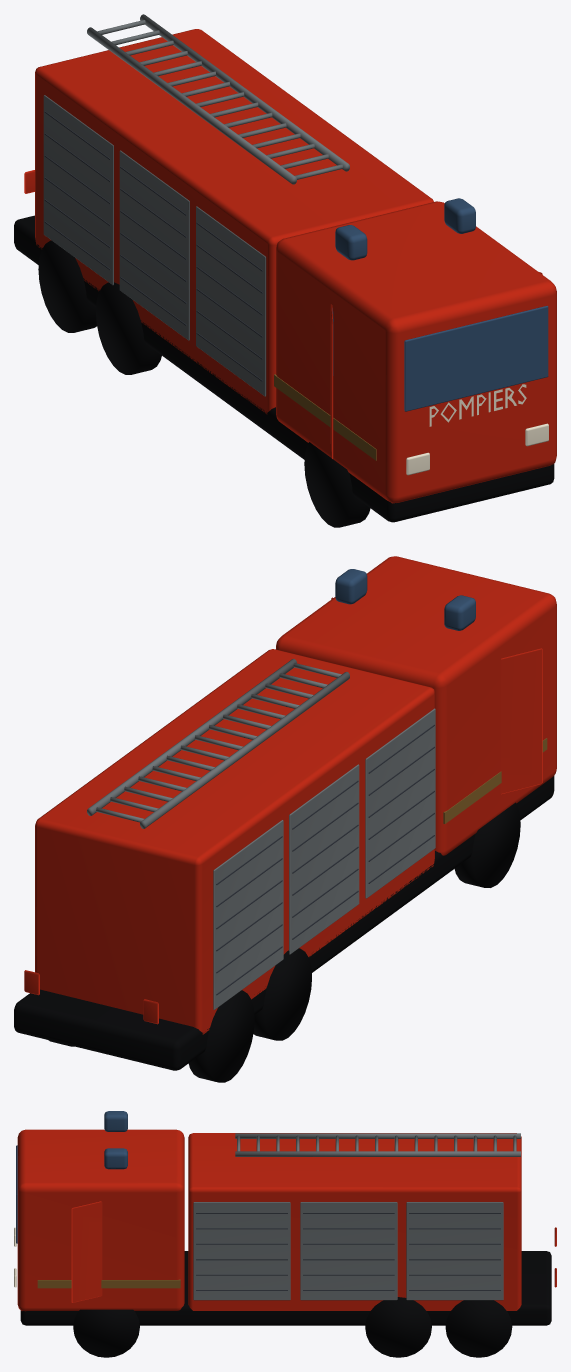
Rendered from fire-truck-open.glb.
3 views of the same model, one above another, from view 1: azimuth 30°, elevation 25°; view 2: azimuth 150°, elevation 25°; view 3: azimuth 270°, elevation 25° (orthographic). The views are drawn at different scales.
Parts seen in each view (by area): view 1: fire-truck-open; view 2: fire-truck-open; view 3: fire-truck-open.
Part boxes in pixels (bbox=[...]): fire-truck-open: bbox=[14, 14, 556, 527]; fire-truck-open: bbox=[14, 556, 556, 1082]; fire-truck-open: bbox=[14, 1111, 556, 1357].
Size of the model in its own units: 1.62 by 2.08 by 5.19.
1 material, 1 textured.
